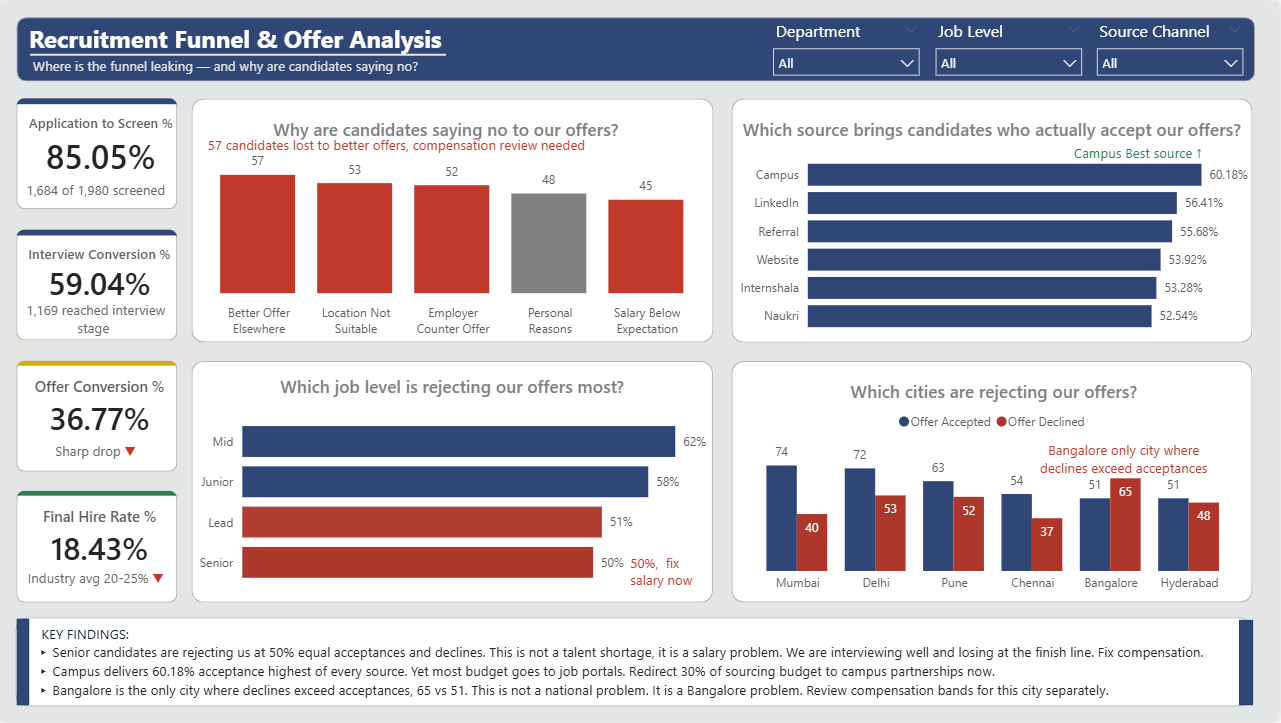

The page's visual inventory and layout, read from the dashboard file:
{"tool":"powerbi","page":{"name":"Recruitment Funnel Analysis","canvas":[1280,720],"ordinal":1},"visuals":[{"type":"shape","box":[192.9,359.5,521.4,241.7],"z":0},{"type":"shape","box":[732.9,360,521,241.4],"z":1000},{"type":"shape","box":[17.1,15.7,1238.6,64.3],"z":2000},{"type":"shape","box":[16.7,616.7,1236.9,89.3],"z":3000},{"type":"shape","box":[17.9,617.9,13.1,86.9],"z":4000},{"type":"cardVisual","fields":{"Data":["Recruitment_Dataset.Application to Screen %"]},"box":[13,90,171.4,125],"z":5000},{"type":"cardVisual","fields":{"Data":["Recruitment_Dataset.Interview Conversion %"]},"box":[13,221,171.4,125],"z":6000},{"type":"cardVisual","fields":{"Data":["Recruitment_Dataset.Offer Conversion %"]},"box":[13,352,171.4,125],"z":7000},{"type":"cardVisual","fields":{"Data":["Recruitment_Dataset.Final Hire Rate %"]},"box":[13,482,171,126],"z":8000},{"type":"shape","box":[192.9,97.1,522,244],"z":9000},{"type":"shape","box":[732.9,97.1,521,244.3],"z":10000},{"type":"shape","box":[1240,618.6,14.3,85.7],"z":11000},{"type":"textbox","box":[25,15.7,511.4,54.3],"z":12000},{"type":"clusteredBarChart","title":"Which job level is rejecting our offers most?","fields":{"Category":["Recruitment_Dataset.Job Level"],"Y":["Recruitment_Dataset.Accept Rate by Level"]},"box":[192.9,374.3,521.4,225.7],"z":13000},{"type":"barChart","title":"Which source brings candidates who actually accept our offers?","fields":{"Category":["Recruitment_Dataset.Source Channel - Copy"],"Y":["Recruitment_Dataset.Accept Rate %"]},"box":[730,115.7,525.7,227.1],"z":14000},{"type":"columnChart","title":"Why are candidates saying no to our offers?","fields":{"Category":["Recruitment_Dataset.Rejection Reason"],"Y":["Recruitment_Dataset.Offer Declined"]},"box":[162.9,115.7,568.6,227.1],"z":15000},{"type":"clusteredColumnChart","title":"Which cities are rejecting our offers?","fields":{"Category":["Recruitment_Dataset.Location"],"Y":["Recruitment_Dataset.Offer Accepted","Recruitment_Dataset.Offer Declined"]},"box":[731.4,378.6,527.1,221.4],"z":16000},{"type":"textbox","box":[34.3,618.6,1212.9,101.4],"z":17000},{"type":"textbox","box":[1070,138,161.4,41.4],"z":18000},{"type":"textbox","box":[204.3,130,465.7,51.4],"z":19000},{"type":"textbox","box":[1032.7,435.5,184.6,65.1],"z":20000},{"type":"textbox","box":[625.7,547.1,88.6,55.7],"z":21000},{"type":"shape","box":[31,39,415.7,30],"z":22000},{"type":"textbox","box":[29,51.4,468.6,38.6],"z":23000},{"type":"slicer","fields":{"Values":["Recruitment_Dataset.Department"]},"box":[764,14,167.1,61.4],"z":24000},{"type":"slicer","fields":{"Values":["Recruitment_Dataset.Job Level"]},"box":[926,14,167.1,71.4],"z":25000},{"type":"slicer","fields":{"Values":["Recruitment_Dataset.Source Channel"]},"box":[1087.1,14,167.1,84.3],"z":26000},{"type":"textbox","box":[22,175,158.6,37.1],"z":27000},{"type":"textbox","box":[23,295,158.6,71.4],"z":28000},{"type":"textbox","box":[51.4,435.7,111.4,41.4],"z":29000},{"type":"textbox","box":[24,562,187.1,40],"z":30000}]}

Visuals, with their boxes in screenshot pixels (x1, y1, x2, y2), scaled from the page's 1280x720 canvas onto the 1281x723 screenshot:
shape: 193/361/715/604
shape: 733/362/1255/604
shape: 17/16/1257/80
shape: 17/619/1255/709
shape: 18/620/31/708
cardVisual - Recruitment_Dataset.Application to Screen %: 13/90/185/216
cardVisual - Recruitment_Dataset.Interview Conversion %: 13/222/185/347
cardVisual - Recruitment_Dataset.Offer Conversion %: 13/353/185/479
cardVisual - Recruitment_Dataset.Final Hire Rate %: 13/484/184/611
shape: 193/98/715/343
shape: 733/98/1255/343
shape: 1241/621/1255/707
textbox: 25/16/537/70
"Which job level is rejecting our offers most?" clusteredBarChart: 193/376/715/602
"Which source brings candidates who actually accept our offers?" barChart: 731/116/1257/344
"Why are candidates saying no to our offers?" columnChart: 163/116/732/344
"Which cities are rejecting our offers?" clusteredColumnChart: 732/380/1259/602
textbox: 34/621/1248/722
textbox: 1071/139/1232/180
textbox: 204/131/671/182
textbox: 1034/437/1218/503
textbox: 626/549/715/605
shape: 31/39/447/69
textbox: 29/52/498/90
slicer - Recruitment_Dataset.Department: 765/14/932/76
slicer - Recruitment_Dataset.Job Level: 927/14/1094/86
slicer - Recruitment_Dataset.Source Channel: 1088/14/1255/99
textbox: 22/176/181/213
textbox: 23/296/182/368
textbox: 51/438/163/479
textbox: 24/564/211/605
